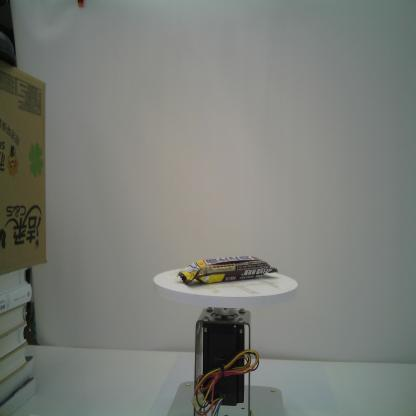Chocolate: (177, 256, 278, 285)
